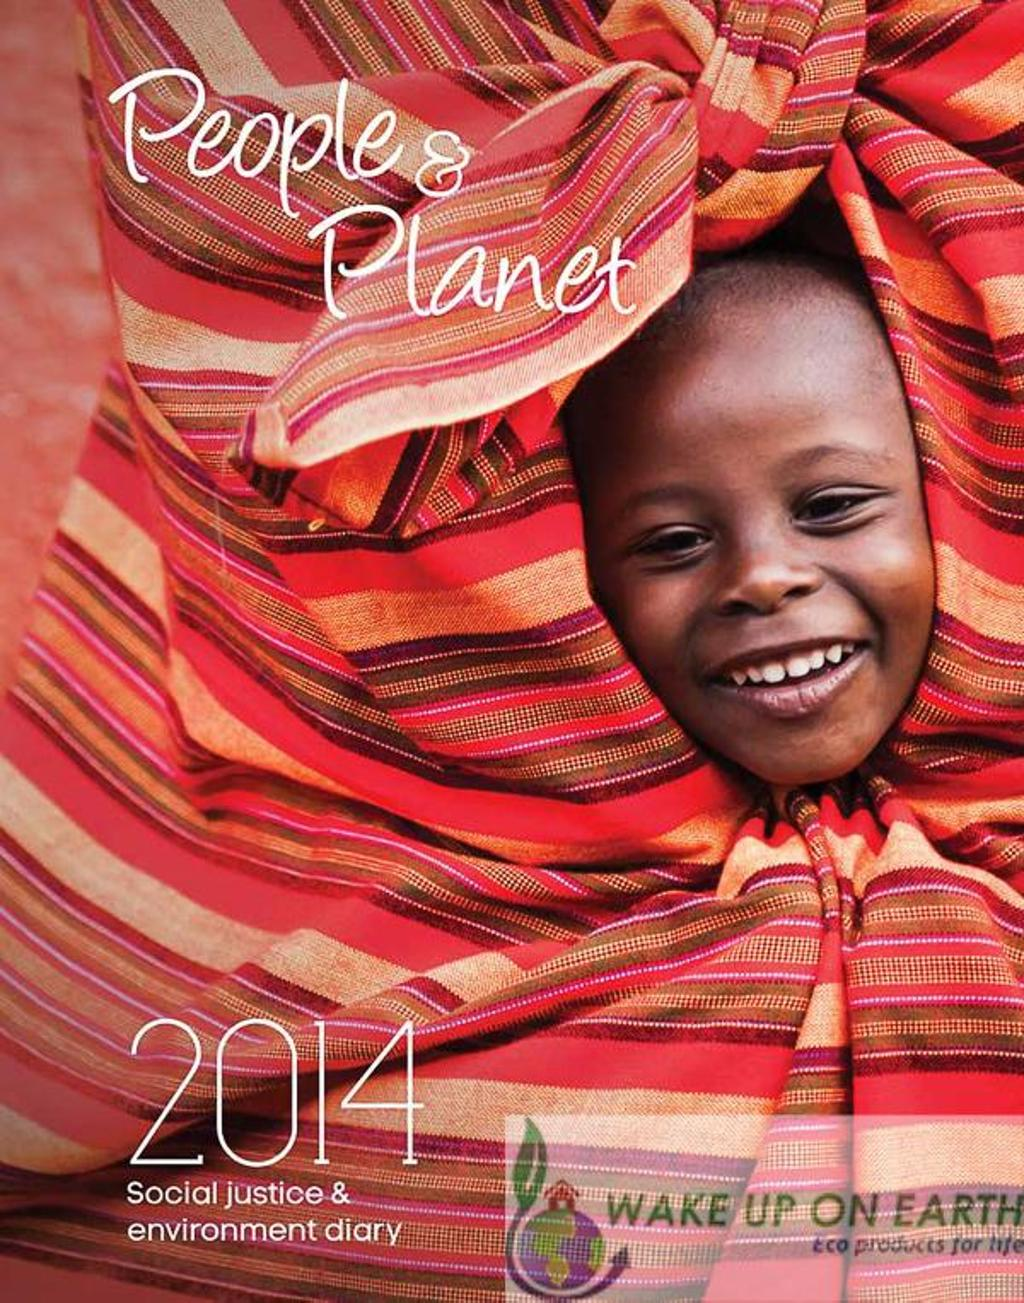face: (577, 305, 933, 788)
